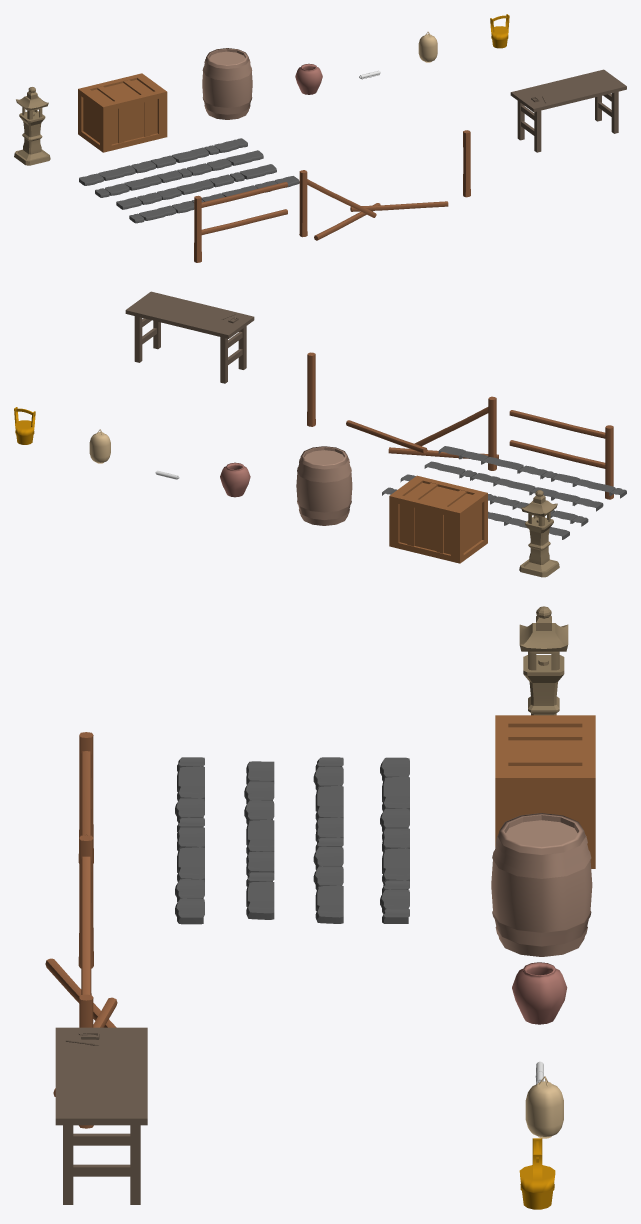
Rendered from Small Props FBX (Soft display).fbx.
3 views of the same model, one above another, from view 1: azimuth 30°, elevation 25°; view 2: azimuth 150°, elevation 25°; view 3: azimuth 270°, elevation 25° (orthographic). The views are drawn at different scales.
Parts seen in each view (by area): view 1: Box, Table, Barrel, Fence_Piece_2, Stair_Piece_4, Stair_Piece_3, Stone_Lamp1, Stair_Piece_2, Fence_Piece_1, Stair_Piece_1, Pot1, Fence_Piece_3 (+2 smaller); view 2: Box, Table, Barrel, Fence_Piece_2, Stone_Lamp1, Fence_Piece_1, Stair_Piece_1, Stair_Piece_2, Pot1, Stair_Piece_3, Fence_Piece_3, Pail (+2 smaller); view 3: Barrel, Table, Box, Stair_Piece_3, Stair_Piece_1, Stair_Piece_4, Stair_Piece_2, Stone_Lamp1, Fence_Piece_2, Pot1, Lantern1, Pail (+1 smaller).
Part boxes in pixels (<box>): Box: <box>78,73,167,152</box>; Table: <box>510,69,626,152</box>; Barrel: <box>202,48,252,119</box>; Fence_Piece_2: <box>299,170,448,240</box>; Stair_Piece_4: <box>79,138,247,185</box>; Stair_Piece_3: <box>95,150,263,197</box>; Stone_Lamp1: <box>14,87,50,165</box>; Stair_Piece_2: <box>116,164,276,209</box>; Fence_Piece_1: <box>194,182,287,262</box>; Stair_Piece_1: <box>129,176,299,223</box>; Pot1: <box>295,63,322,94</box>; Fence_Piece_3: <box>463,130,470,197</box>; Box: <box>389,475,487,563</box>; Table: <box>125,291,254,383</box>; Barrel: <box>296,446,352,525</box>; Fence_Piece_2: <box>346,396,498,470</box>; Stone_Lamp1: <box>519,490,559,577</box>; Fence_Piece_1: <box>509,410,613,499</box>; Stair_Piece_1: <box>438,446,626,498</box>; Stair_Piece_2: <box>424,461,603,511</box>; Pot1: <box>220,462,250,497</box>; Stair_Piece_3: <box>400,474,588,526</box>; Fence_Piece_3: <box>307,352,315,426</box>; Pail: <box>14,407,35,444</box>; Barrel: <box>491,813,592,956</box>; Table: <box>55,1027,147,1204</box>; Box: <box>495,715,595,868</box>; Stair_Piece_3: <box>313,757,343,923</box>; Stair_Piece_1: <box>175,757,204,924</box>; Stair_Piece_4: <box>380,757,409,923</box>; Stair_Piece_2: <box>244,761,274,919</box>; Stone_Lamp1: <box>519,606,568,715</box>; Fence_Piece_2: <box>45,835,117,1096</box>; Pot1: <box>512,962,567,1024</box>; Lantern1: <box>525,1076,563,1138</box>; Pail: <box>519,1138,555,1209</box>.
Size of the model in its own units: 1056 by 213 by 516.
